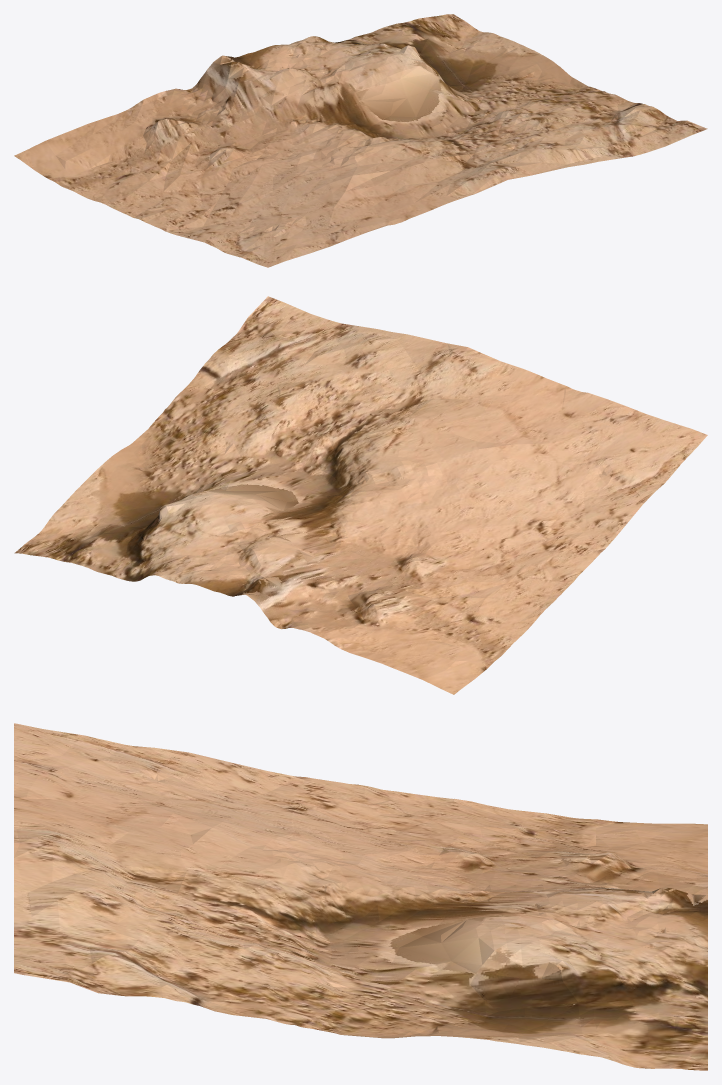
3 renders of one model, top to bottom at view 1: azimuth 30°, elevation 25°; view 2: azimuth 150°, elevation 25°; view 3: azimuth 270°, elevation 25°, orthographic. The views are drawn at different scales.
Bounding box in the file's own units: 1.04 × 0.2396 × 1.04.
2 materials, 2 textured.
